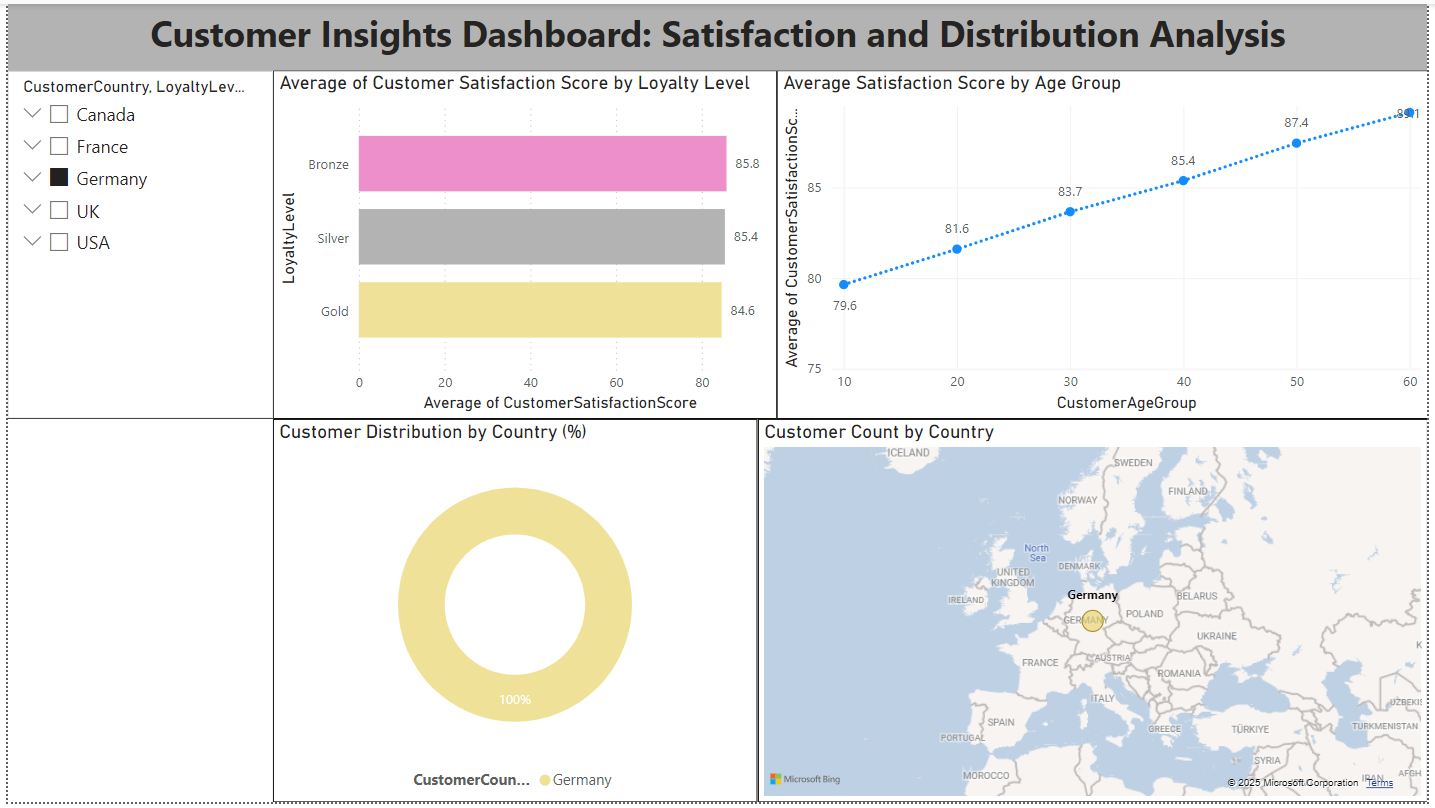

The page's visual inventory and layout, read from the dashboard file:
{"tool":"powerbi","page":{"name":"Page 1","canvas":[1280,720],"ordinal":0},"visuals":[{"type":"clusteredBarChart","title":"Average of Customer Satisfaction Score by Loyalty Level","fields":{"Category":["customer_feedback_satisfaction.LoyaltyLevel"],"Y":["Avg(customer_feedback_satisfaction.CustomerSatisfactionScore)"]},"box":[238.6,60,454.3,300],"z":0},{"type":"donutChart","title":"Customer Distribution by Country (%)","fields":{"Category":["customer_feedback_satisfaction.CustomerCountry"],"Y":["CountNonNull(customer_feedback_satisfaction.CustomerID)"]},"box":[238.6,374.3,437.1,345.7],"z":1000},{"type":"lineChart","title":"Average Satisfaction Score by Age Group","fields":{"Category":["customer_feedback_satisfaction.CustomerAge (bins)"],"Y":["Avg(customer_feedback_satisfaction.CustomerSatisfactionScore)"]},"box":[692.9,60,587.1,314.3],"z":2000},{"type":"map","title":"Customer Count by Country","fields":{"Category":["customer_feedback_satisfaction.CustomerCountry"],"Size":["CountNonNull(customer_feedback_satisfaction.CustomerID)"]},"box":[675.7,374.3,604.3,345.7],"z":3000},{"type":"slicer","fields":{"Values":["customer_feedback_satisfaction.CustomerCountry","customer_feedback_satisfaction.LoyaltyLevel","customer_feedback_satisfaction.CustomerGender"]},"box":[0,60,238.6,295.7],"z":4000},{"type":"textbox","box":[0,0,1280,60],"z":5000}]}

Visuals, with their boxes in screenshot pixels (x1, y1, x2, y2), scaled from the page's 1280x720 canvas onto the 1435x808 screenshot:
"Average of Customer Satisfaction Score by Loyalty Level" clusteredBarChart: 267,67,777,404
"Customer Distribution by Country (%)" donutChart: 267,420,758,807
"Average Satisfaction Score by Age Group" lineChart: 777,67,1434,420
"Customer Count by Country" map: 758,420,1434,807
slicer - customer_feedback_satisfaction.CustomerCountry x customer_feedback_satisfaction.LoyaltyLevel: 0,67,267,399
textbox: 0,0,1434,67
